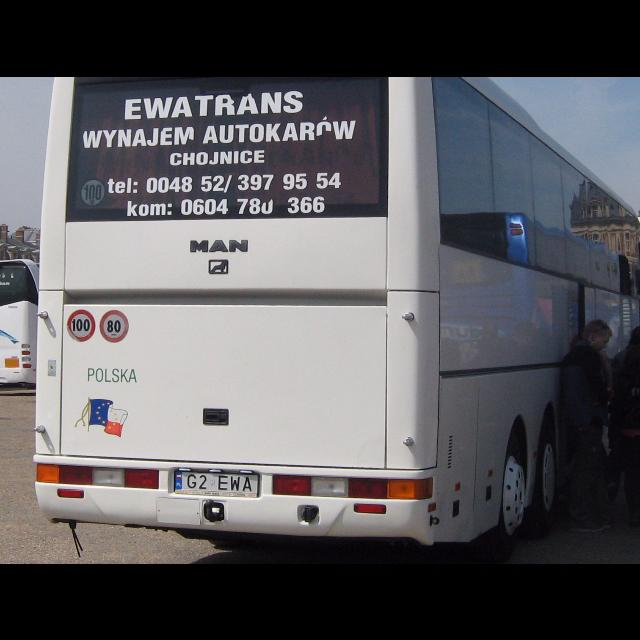pl_license_plate: (175, 470, 259, 492)
